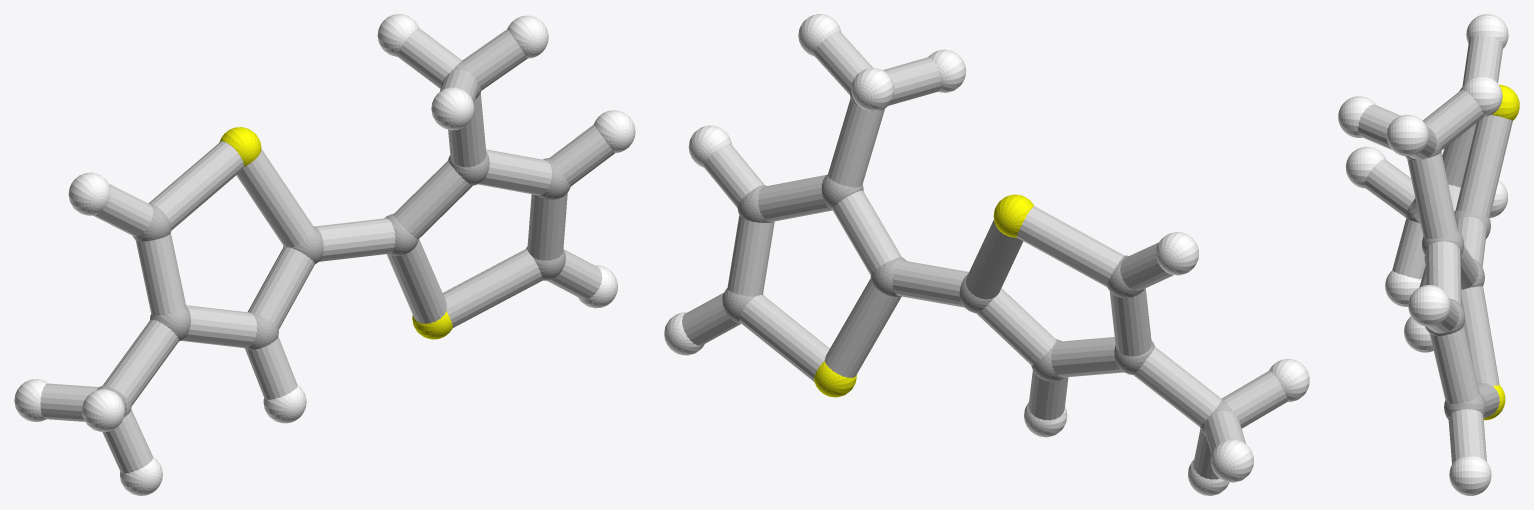
File: Methylthiophene_Phi_5_Theta_30_Methylthiophene.glb
3 renders of one model, left to right at view 1: azimuth 30°, elevation 25°; view 2: azimuth 150°, elevation 25°; view 3: azimuth 270°, elevation 25°, orthographic. The views are drawn at different scales.
Visible parts, largest first — view 1: grp7965, grp3621, grp1, grp7241; view 2: grp7965, grp3621, grp1, grp7241; view 3: grp7965, grp3621, grp1, grp7241.
Part boxes in pixels (box(x1,y1,x2,y2)): grp7965: box(40, 28, 614, 473); grp3621: box(14, 14, 635, 495); grp1: box(96, 62, 570, 417); grp7241: box(219, 127, 452, 339); grp7965: box(682, 31, 1287, 479); grp3621: box(664, 14, 1309, 495); grp1: box(722, 90, 1234, 435); grp7241: box(814, 194, 1033, 397); grp7965: box(1358, 35, 1512, 464); grp3621: box(1338, 14, 1508, 495); grp1: box(1405, 87, 1490, 419); grp7241: box(1483, 84, 1519, 420).
Size of the model in its own units: 9.45 by 5.85 by 2.58.
